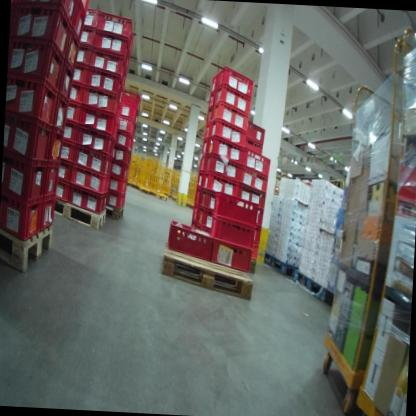pallet: (158, 238, 260, 302), (0, 215, 56, 274), (51, 196, 107, 232), (293, 268, 335, 307), (260, 249, 297, 277), (103, 203, 126, 220)
small_load_carrier: (11, 1, 73, 64), (1, 143, 52, 210), (2, 105, 53, 169), (6, 39, 62, 94), (5, 78, 59, 131), (0, 191, 46, 243), (211, 188, 260, 229), (165, 219, 214, 259), (208, 213, 256, 251), (13, 0, 80, 26), (94, 10, 134, 48), (84, 65, 124, 102), (77, 101, 114, 141), (213, 82, 251, 120), (87, 46, 127, 82), (67, 161, 109, 195), (216, 66, 255, 101), (220, 214, 262, 246), (71, 143, 109, 178), (209, 116, 247, 150), (203, 151, 242, 184), (80, 87, 118, 119), (208, 136, 247, 167), (75, 122, 112, 154), (60, 28, 83, 77), (212, 101, 250, 130), (199, 189, 237, 218), (54, 56, 76, 105), (241, 146, 272, 179), (229, 199, 266, 226), (40, 197, 63, 238), (201, 172, 238, 197), (91, 29, 128, 54), (46, 125, 68, 167), (238, 165, 269, 194), (235, 183, 267, 211), (44, 163, 66, 203), (196, 206, 229, 232), (69, 0, 85, 44), (114, 98, 138, 127), (53, 95, 71, 133), (116, 85, 141, 111), (69, 57, 90, 87), (244, 118, 266, 146), (105, 172, 130, 196), (104, 188, 128, 212), (241, 135, 265, 157), (113, 115, 135, 139), (72, 41, 92, 67), (111, 139, 131, 164), (76, 23, 94, 50), (61, 117, 77, 146), (110, 156, 131, 178), (113, 128, 134, 149), (79, 7, 102, 26), (59, 135, 71, 169), (63, 101, 79, 126), (53, 176, 67, 204), (66, 80, 82, 102), (197, 135, 210, 160), (59, 159, 73, 182), (196, 150, 207, 179), (70, 0, 92, 14), (208, 70, 219, 94), (193, 185, 203, 207), (103, 153, 113, 175), (125, 34, 135, 55), (102, 175, 111, 198), (204, 102, 214, 122), (190, 202, 199, 223), (110, 121, 119, 142), (207, 86, 215, 108), (116, 82, 124, 104), (196, 170, 204, 189), (108, 131, 114, 156), (203, 119, 210, 140), (125, 51, 131, 72), (121, 69, 127, 90)
